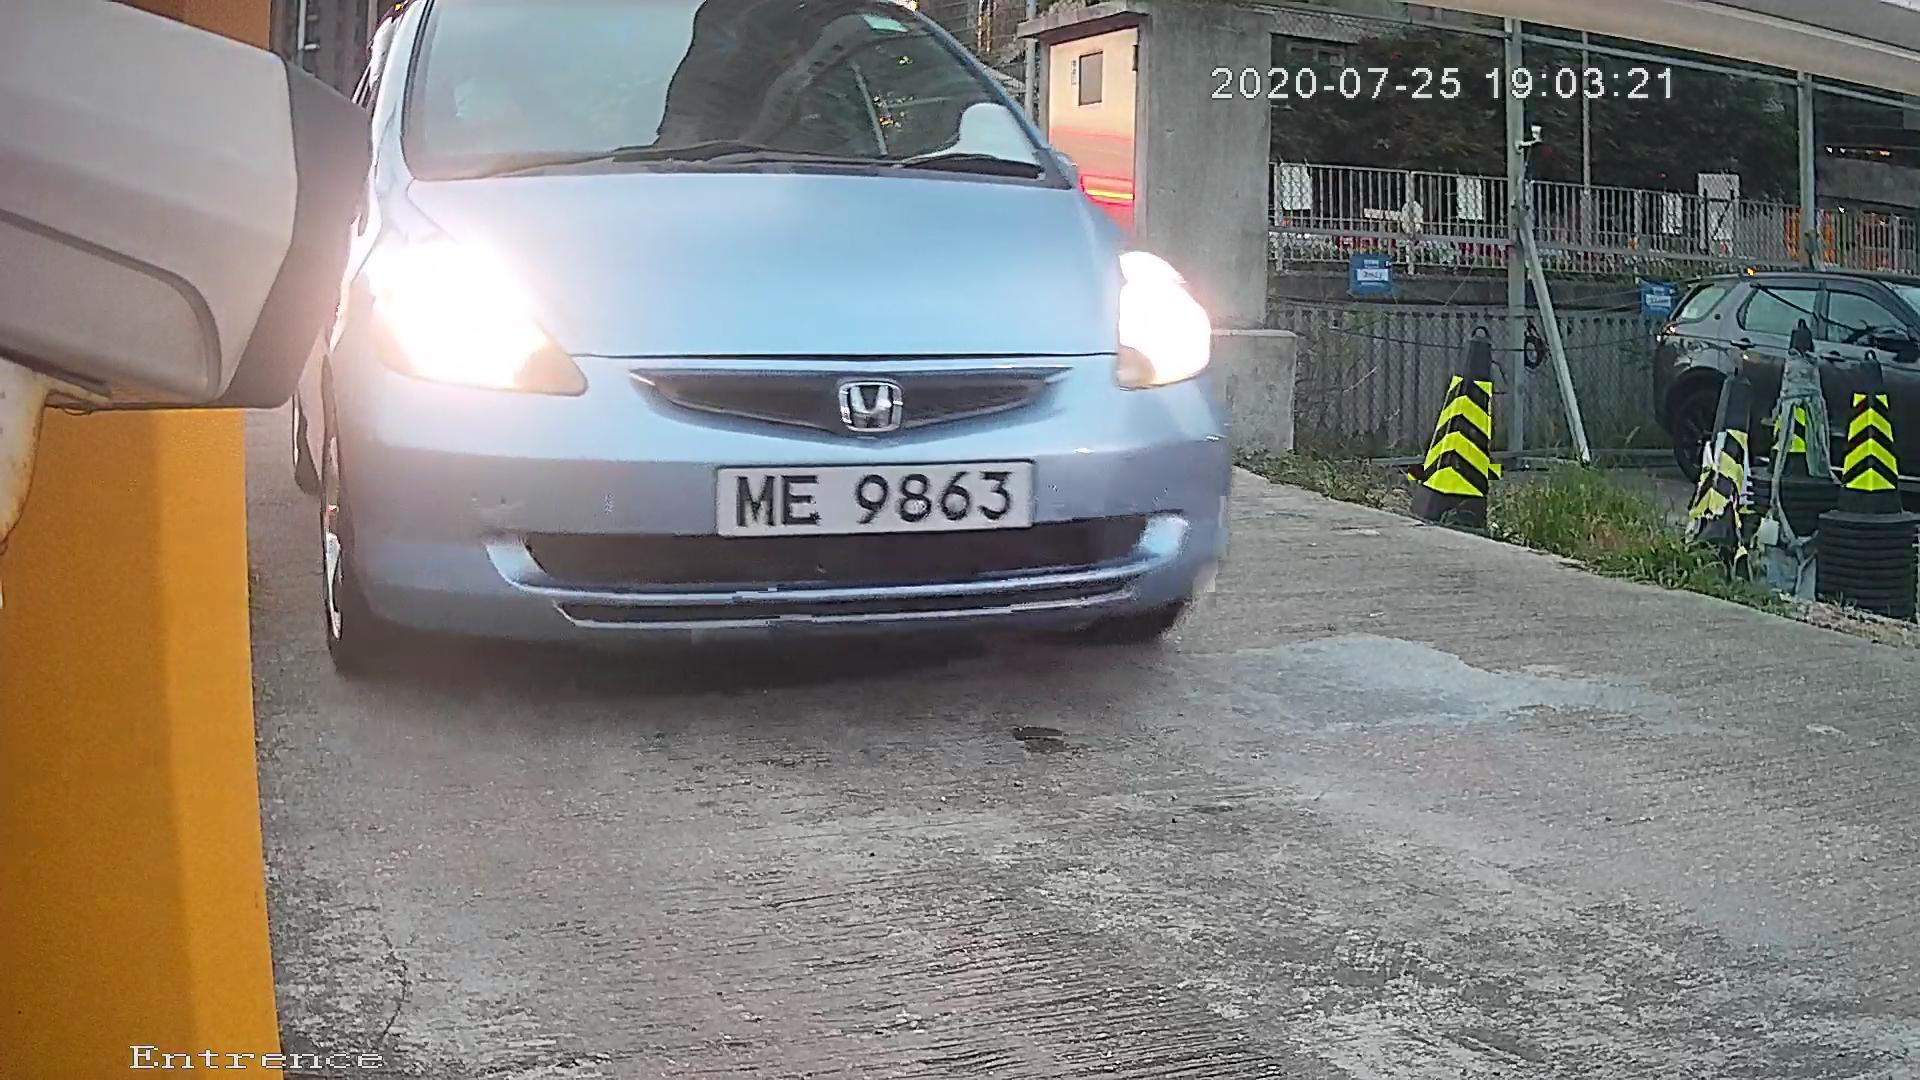License Plate: (678, 454, 1055, 540)
